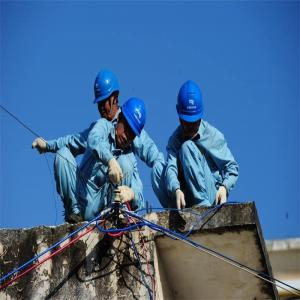blue: (114, 96, 149, 149), (175, 81, 206, 136), (93, 68, 121, 119)
